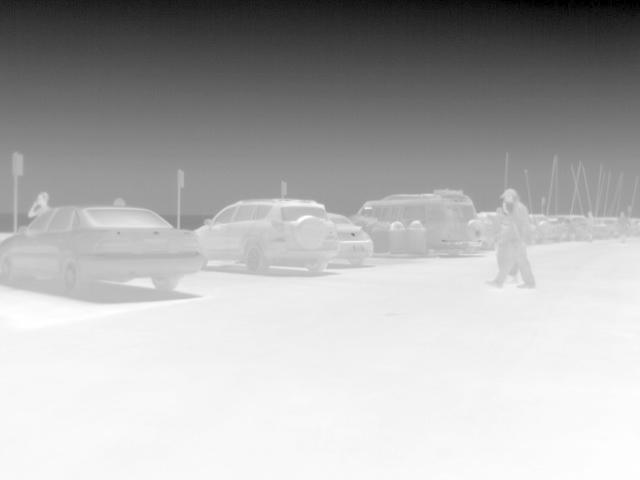car: (3, 204, 207, 294), (191, 197, 338, 277), (356, 190, 485, 252), (328, 211, 378, 269), (551, 214, 589, 241), (526, 214, 552, 244), (592, 216, 610, 238)
person: (486, 188, 539, 290), (24, 190, 51, 222), (615, 210, 630, 242), (583, 209, 597, 242)
